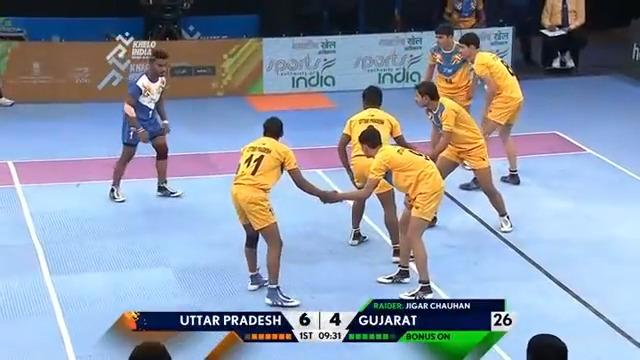Player: (228, 113, 341, 308), (325, 127, 447, 300), (413, 80, 513, 233), (337, 84, 418, 262), (453, 31, 524, 190), (421, 22, 475, 183)
Raider: (106, 47, 185, 203)
referee: (539, 0, 586, 72)
